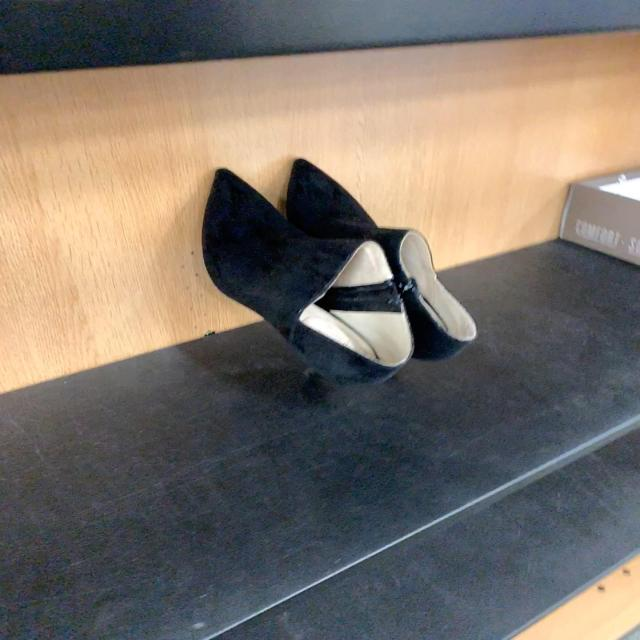shoe: (200, 169, 417, 387), (283, 158, 478, 386)
